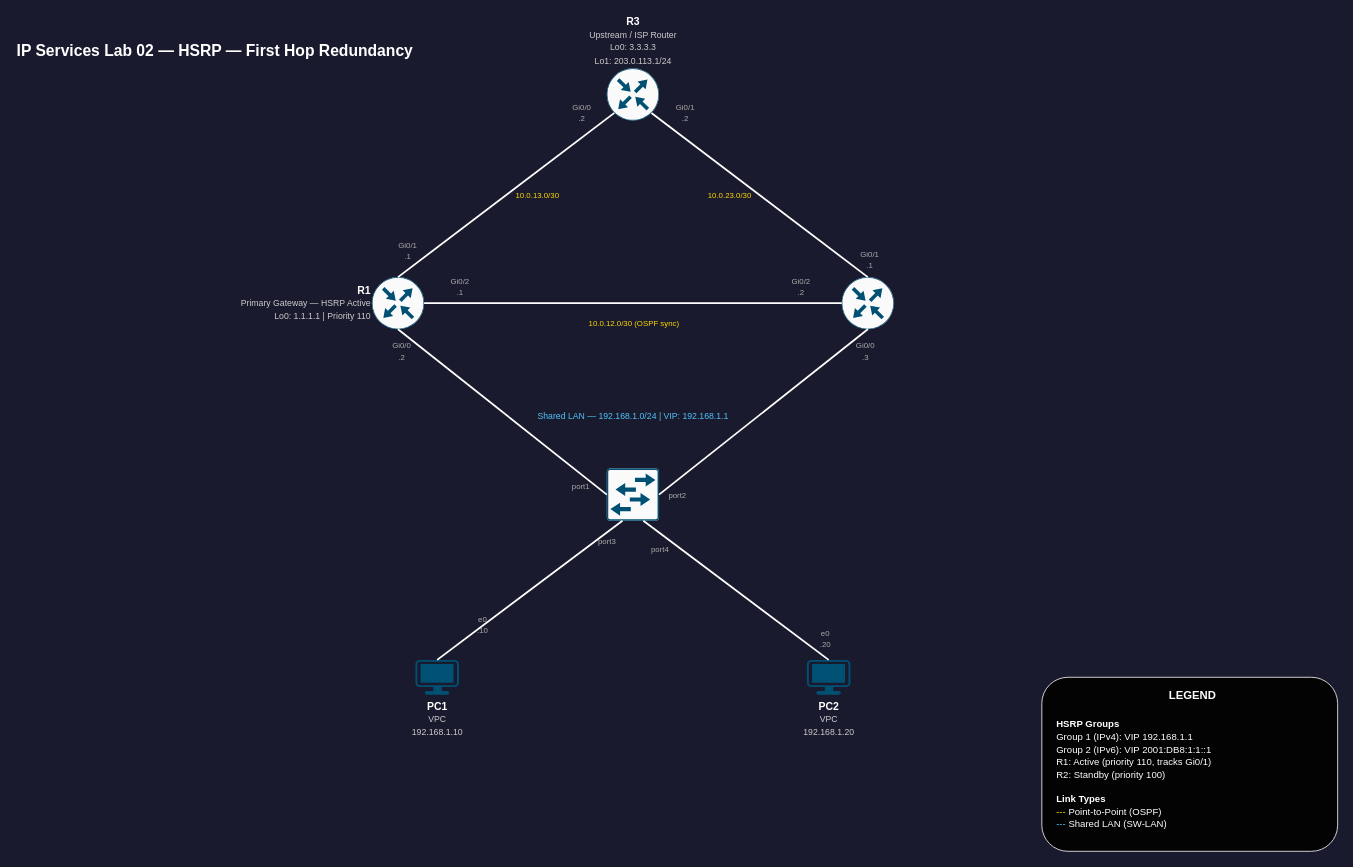
This 1353x867 diagram has some shape labels left out. Here are the shapes that lost their labels. From the top down, the centre of each, then its label:
At (867,302): "R2 Secondary Gateway — HSRP Standby Lo0: 2.2.2.2 | Priority 100".
At (632,494): "SW-LAN Unmanaged Switch 192.168.1.0/24".
